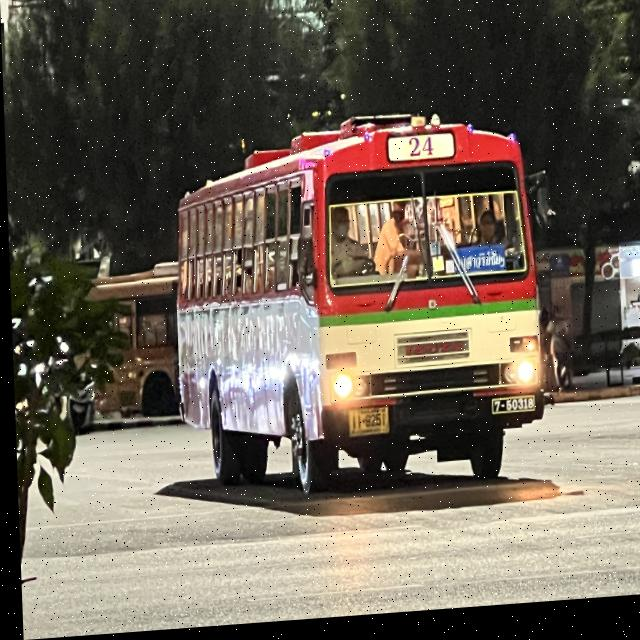BMTA-bus: (172, 121, 548, 500)
Bus Line Number: (405, 137, 435, 167)
Bus Side Number: (487, 403, 533, 422)
Destination Sign: (449, 252, 505, 283)
